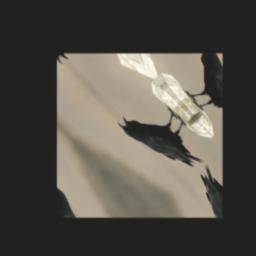Crow: (116, 89, 214, 187)
